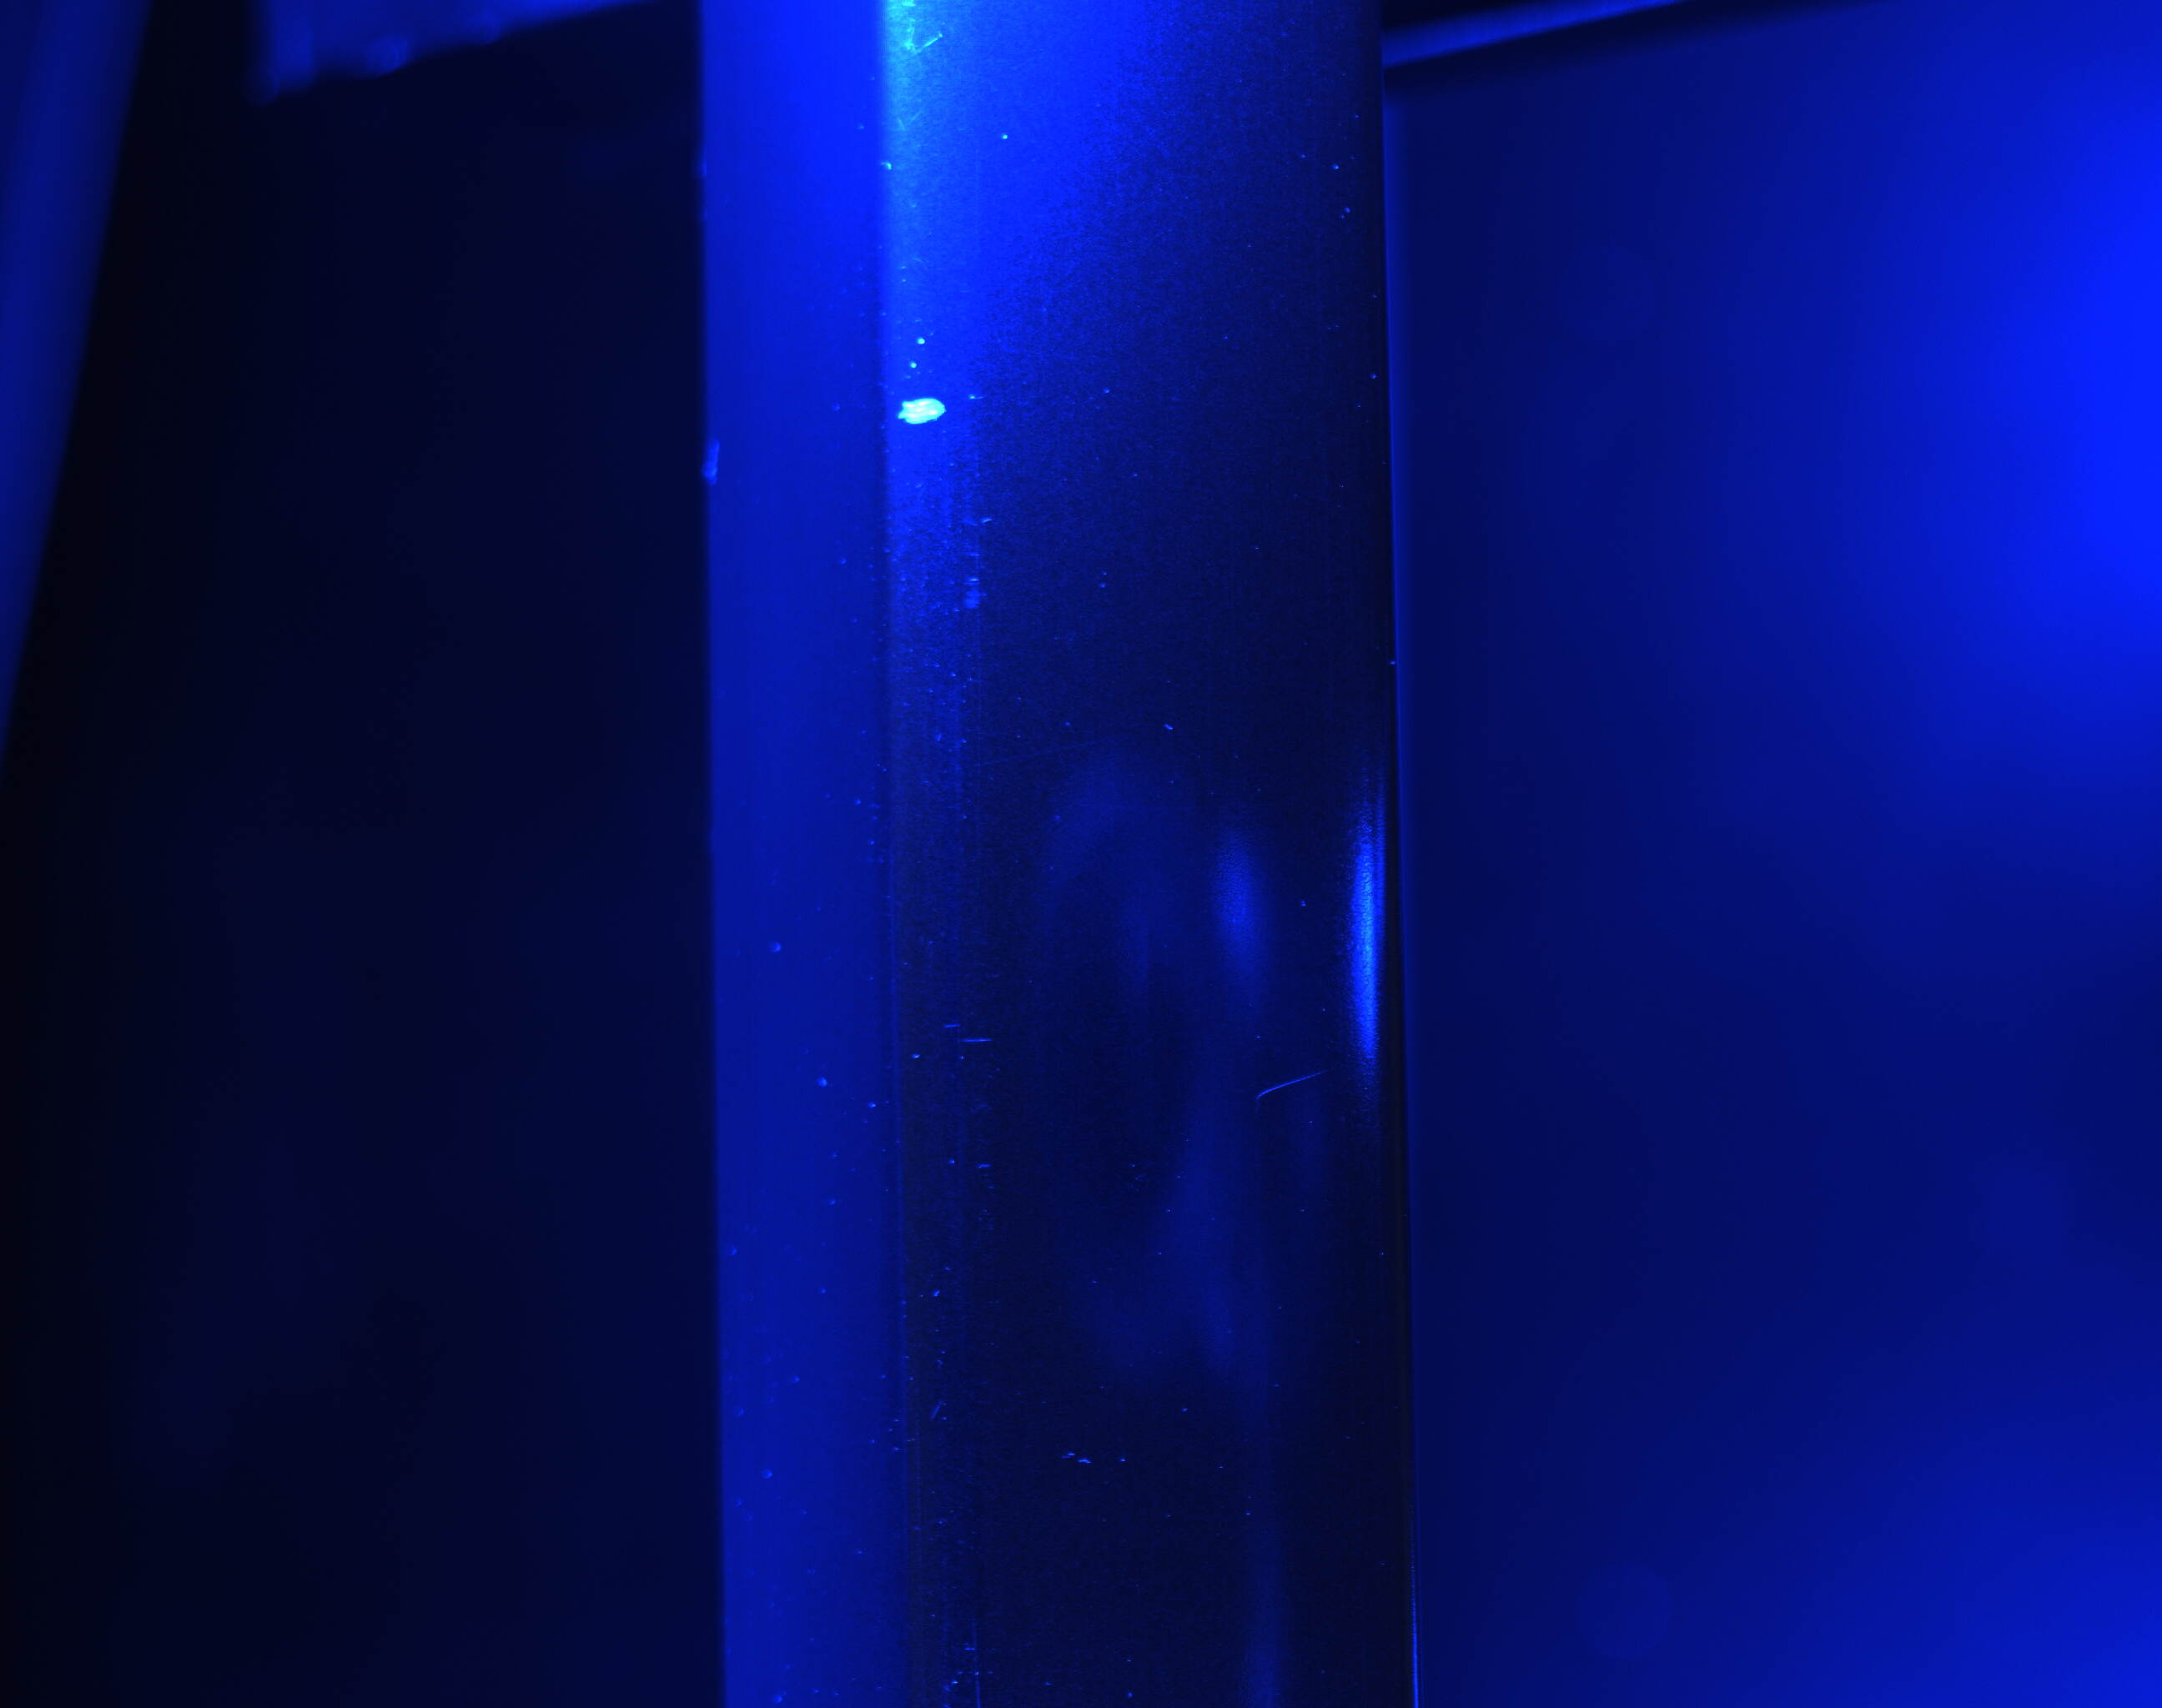NG: (1246, 1046, 1341, 1125), (888, 374, 962, 442)
